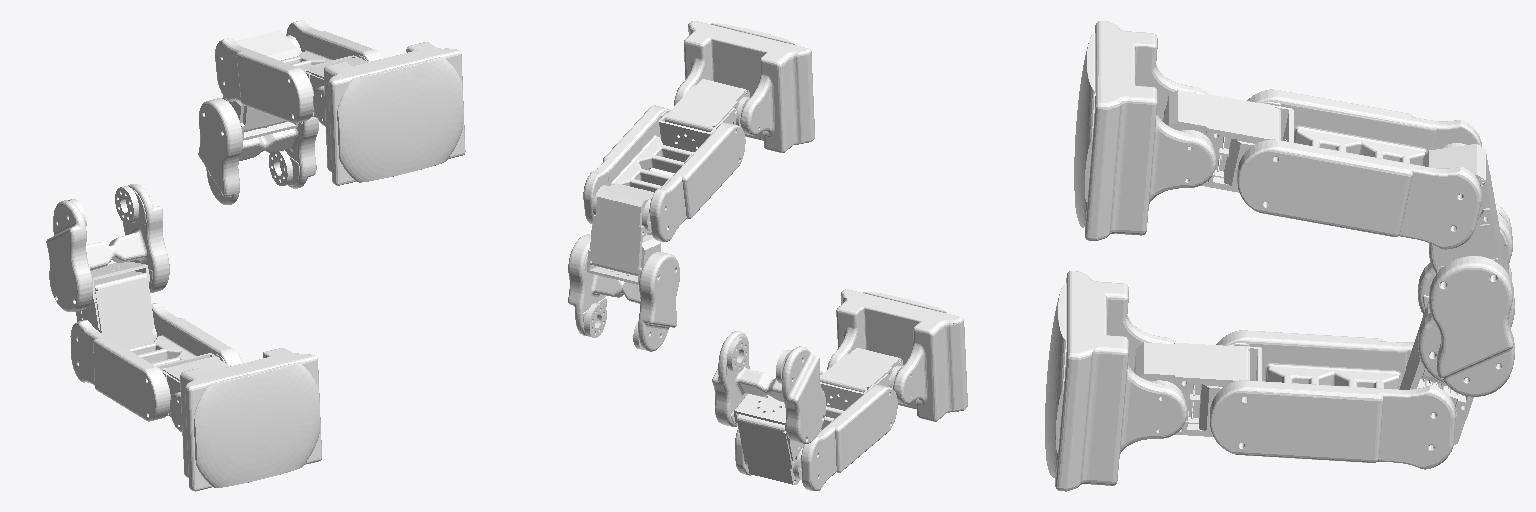
robot.urdf — tries3:
<?xml version="1.0" encoding="utf-8"?>
<!-- This URDF was automatically created by SolidWorks to URDF Exporter! Originally created by [author] ([email redacted]) 
     Commit Version: 1.6.0-1-g15f4949  Build Version: 1.6.7594.29634
     For more information, please see http://wiki.ros.org/sw_urdf_exporter -->
<robot
  name="tries3">
  <material name="blue">
    <color rgba="0 0 0.8 1"/>
  </material>
  <material name="white">
    <color rgba="1 1 1 1"/>
  </material>
  <link
    name="Base">
    <inertial>
      <origin
        xyz="0.069474 -0.12133 0.13993"
        rpy="0 0 0" />
      <mass
        value="0.1" />
      <inertia
        ixx="0.0010375"
        ixy="-2.6567E-05"
        ixz="-5.308E-06"
        iyy="0.0026707"
        iyz="-1.7524E-05"
        izz="0.001808" />
    </inertial>
    <visual>
      <origin
        xyz="0 0 0"
        rpy="0 0 0" />
      <geometry>
        <mesh
          filename="Base.STL" />
      </geometry>
      <material name="">
	    <color
          rgba="1 1 1 1" />
	  </material>	  
    </visual>
    <collision>
      <origin
        xyz="0 0 0"
        rpy="0 0 0" />
      <geometry>
        <mesh
          filename="Base.STL" />
      </geometry>
    </collision>
  </link>
  <link
    name="Thigh1">
    <inertial>
      <origin
        xyz="0.02987 -0.0095457 0.038218"
        rpy="0 0 0" />
      <mass
        value="0.07063" />
      <inertia
        ixx="1.6093E-05"
        ixy="1.246E-09"
        ixz="-3.1315E-09"
        iyy="3.1061E-05"
        iyz="1.3962E-06"
        izz="2.3298E-05" />
    </inertial>
    <visual>
      <origin
        xyz="0 0 0"
        rpy="0 0 0" />
      <geometry>
        <mesh
          filename="Thigh1.STL" />
      </geometry>
      <material
        name="">
        <color
          rgba="1 1 1 1" />
      </material>
    </visual>
    <collision>
      <origin
        xyz="0 0 0"
        rpy="0 0 0" />
      <geometry>
        <mesh
          filename="Thigh1.STL" />
      </geometry>
    </collision>
  </link>
  <joint
    name="JointBT1"
    type="revolute">
    <origin
      xyz="0.081014 -0.19531 0.14047"
      rpy="-0.089 0 0" />
    <parent
      link="Base" />
    <child
      link="Thigh1" />
    <axis
      xyz="-1 0 0" />
    <limit
      lower="-2.2"
      upper="0.7"
      effort="30"
      velocity="1" />
    <dynamics
      damping="100"
      friction="100" />
    <safety_controller
      soft_upper="0.5"
      soft_lower="-2"
      k_position="15"
      k_velocity="10" />
  </joint>
  <link
    name="Calf1">
    <inertial>
      <origin
        xyz="0.0291618406610318 0.00128607929559349 0.0602941092380433"
        rpy="0 0 0" />
      <mass
        value="0.0931869407574842" />
      <inertia
        ixx="4.49729709529834E-05"
        ixy="9.21779762223487E-10"
        ixz="2.18275368275408E-08"
        iyy="6.94946773983881E-05"
        iyz="-7.31277960480113E-07"
        izz="3.50423978846362E-05" />
    </inertial>
    <visual>
      <origin
        xyz="0 0 0"
        rpy="0 0 0" />
      <geometry>
        <mesh
          filename="Calf1.STL" />
      </geometry>
      <material
        name="">
        <color
          rgba="1 1 1 1" />
      </material>
    </visual>
    <collision>
      <origin
        xyz="0 0 0"
        rpy="0 0 0" />
      <geometry>
        <mesh
          filename="Calf1.STL" />
      </geometry>
    </collision>
  </link>
  <joint
    name="JointTC1"
    type="revolute">
    <origin
      xyz="0.00055 -0.016403 0.0694"
      rpy="1.485 0 0" />
    <parent
      link="Thigh1" />
    <child
      link="Calf1" />
    <axis
      xyz="-1 0 0" />
    <limit
      lower="-2.2"
      upper="0.7"
      effort="30"
      velocity="1" />
    <dynamics
      damping="100"
      friction="100" />
    <safety_controller
      soft_upper="0.5"
      soft_lower="-2"
      k_position="15"
      k_velocity="10" />
  </joint>
  <link
    name="Feet1">
    <inertial>
      <origin
        xyz="0.029259792920593 0.0141607691897728 0.0251425745609418"
        rpy="0 0 0" />
      <mass
        value="0.109604998401515" />
      <inertia
        ixx="4.05843123636312E-05"
        ixy="-3.4221610679866E-08"
        ixz="1.16809462796137E-08"
        iyy="6.61376889670423E-05"
        iyz="7.79073663473336E-06"
        izz="7.556628541761E-05" />
    </inertial>
    <visual>
      <origin
        xyz="0 0 0"
        rpy="0 0 0" />
      <geometry>
        <mesh
          filename="Feet1.STL" />
      </geometry>
      <material
        name="">
        <color
          rgba="1 1 1 1" />
      </material>
    </visual>
    <collision>
      <origin
        xyz="0 0 0"
        rpy="0 0 0" />
      <geometry>
        <mesh
          filename="Feet1.STL" />
      </geometry>
    </collision>
  </link>
  <joint
    name="JointCF1"
    type="revolute">
    <origin
      xyz="0 0.0022923 0.10757"
      rpy="0.6123 0 0" />
    <parent
      link="Calf1" />
    <child
      link="Feet1" />
    <axis
      xyz="1 0 0" />
    <limit
      lower="-2.2"
      upper="0.7"
      effort="30"
      velocity="1" />
    <dynamics
      damping="100"
      friction="100" />
    <safety_controller
      soft_upper="0.5"
      soft_lower="-2"
      k_position="15"
      k_velocity="10" />
  </joint>
  <link
    name="Thigh2">
    <inertial>
      <origin
        xyz="0.016043 0.012462 0.037369"
        rpy="0 0 0" />
      <mass
        value="0.07063" />
      <inertia
        ixx="1.6093E-05"
        ixy="1.4812E-09"
        ixz="3.0351E-09"
        iyy="3.08E-05"
        iyz="-1.9759E-06"
        izz="2.3559E-05" />
    </inertial>
    <visual>
      <origin
        xyz="0 0 0"
        rpy="0 0 0" />
      <geometry>
        <mesh
          filename="Thigh2.STL" />
      </geometry>
      <material
        name="">
        <color
          rgba="1 1 1 1" />
      </material>
    </visual>
    <collision>
      <origin
        xyz="0 0 0"
        rpy="0 0 0" />
      <geometry>
        <mesh
          filename="Thigh2.STL" />
      </geometry>
    </collision>
  </link>
  <joint
    name="JointBT2"
    type="revolute">
    <origin
      xyz="0 -0.19531 0.14047"
      rpy="3.17 0 0" />
    <parent
      link="Base" />
    <child
      link="Thigh2" />
    <axis
      xyz="-1 0 0" />
    <limit
      lower="-2.2"
      upper="0.7"
      effort="30"
      velocity="1" />
    <dynamics
      damping="100"
      friction="100" />
    <safety_controller
      soft_upper="0.5"
      soft_lower="-2"
      k_position="15"
      k_velocity="10" />
  </joint>
  <link
    name="Calf2">
    <inertial>
      <origin
        xyz="0.0159937960902976 0.0372228510031257 0.0474498959730804"
        rpy="0 0 0" />
      <mass
        value="0.0931869337149723" />
      <inertia
        ixx="4.4972965564651E-05"
        ixy="1.38437781528667E-08"
        ixz="1.691132067763E-08"
        iyy="5.63774598559999E-05"
        iyz="-1.67448846526976E-05"
        izz="4.81596056228184E-05" />
    </inertial>
    <visual>
      <origin
        xyz="0 0 0"
        rpy="0 0 0" />
      <geometry>
        <mesh
          filename="Calf2.STL" />
      </geometry>
      <material
        name="">
        <color
          rgba="1 1 1 1" />
      </material>
    </visual>
    <collision>
      <origin
        xyz="0 0 0"
        rpy="0 0 0" />
      <geometry>
        <mesh
          filename="Calf2.STL" />
      </geometry>
    </collision>
  </link>
  <joint
    name="JointTC2"
    type="revolute">
    <origin
      xyz="0 0.021701 0.06793"
      rpy="-1.00 0 0" />
    <parent
      link="Thigh2" />
    <child
      link="Calf2" />
    <axis
      xyz="-1 0 0" />
    <limit
      lower="-2.2"
      upper="0.7"
      effort="30"
      velocity="1" />
    <dynamics
      damping="100"
      friction="100" />
    <safety_controller
      soft_upper="0.5"
      soft_lower="-2"
      k_position="15"
      k_velocity="10" />
  </joint>
  <link
    name="Feet2">
    <inertial>
      <origin
        xyz="0.0160869342854834 0.0140365822182331 0.0252120418228264"
        rpy="0 0 0" />
      <mass
        value="0.109604241764417" />
      <inertia
        ixx="4.05842818042763E-05"
        ixy="-2.56800386194617E-08"
        ixz="2.17381723149603E-08"
        iyy="6.60479466425197E-05"
        iyz="7.73557824673172E-06"
        izz="7.56565270484595E-05" />
    </inertial>
    <visual>
      <origin
        xyz="0 0 0"
        rpy="0 0 0" />
      <geometry>
        <mesh
          filename="Feet2.STL" />
      </geometry>
      <material
        name="">
        <color
          rgba="1 1 1 1 " />
      </material>
    </visual>
    <collision>
      <origin
        xyz="0 0 0"
        rpy="0 0 0" />
      <geometry>
        <mesh
          filename="Feet2.STL" />
      </geometry>
    </collision>
  </link>
  <joint
    name="JointCF2"
    type="revolute">
    <origin
      xyz="0 0.06641 0.08466"
      rpy="-0.172 0 0" />
    <parent
      link="Calf2" />
    <child
      link="Feet2" />
    <axis
      xyz="-1 0 0" />
    <limit
      lower="-2.2"
      upper="0.7"
      effort="30"
      velocity="1" />
    <dynamics
      damping="100"
      friction="100" />
    <safety_controller
      soft_upper="0.5"
      soft_lower="-2"
      k_position="15"
      k_velocity="10" />
  </joint>
</robot>

--- Facts derived from the render (not from the file) ---
Views: 3 orthographic renders of the robot side by side, from view 1: azimuth 30°, elevation 25°; view 2: azimuth 150°, elevation 25°; view 3: azimuth 270°, elevation 25°.
Robot: tries3 — 7 links, 6 joints (6 revolute); root link Base; default pose: every joint at zero.
Visible links, largest first — view 1: Feet1, Feet2, Thigh2, Calf2, Thigh1, Calf1; view 2: Calf1, Thigh1, Feet1, Feet2, Thigh2, Calf2; view 3: Calf1, Calf2, Feet1, Feet2, Thigh1, Thigh2.
Boxes of the visible links, x1,y1,x2,y2 form: Feet1: (313,42,465,185); Feet2: (170,348,321,491); Thigh2: (46,184,169,348); Calf2: (70,303,242,421); Thigh1: (198,30,318,204); Calf1: (215,20,383,123); Calf1: (583,79,749,241); Thigh1: (568,183,679,351); Feet1: (674,21,814,152); Feet2: (827,289,967,421); Thigh2: (712,331,825,484); Calf2: (735,348,903,490); Calf1: (1163,89,1482,249); Calf2: (1134,330,1457,469); Feet1: (1074,21,1215,240); Feet2: (1045,271,1186,491); Thigh1: (1423,144,1514,396); Thigh2: (1399,203,1511,444).
Size in the robot's own frame: 0.1747 by 0.1849 by 0.2147 metres.
6 mesh visuals loaded from 7 distinct referenced files (6 binary STL); not drawn: 1 (reference not matched to a file when rendering).